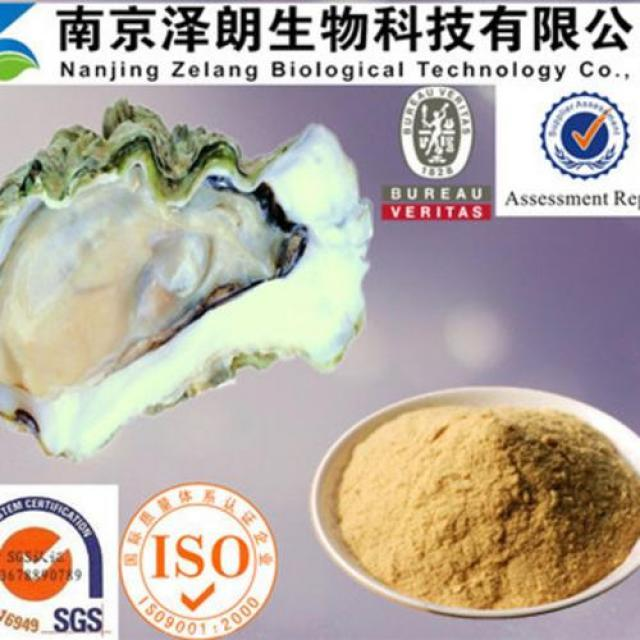Oyster-Open: (0, 100, 372, 458)
